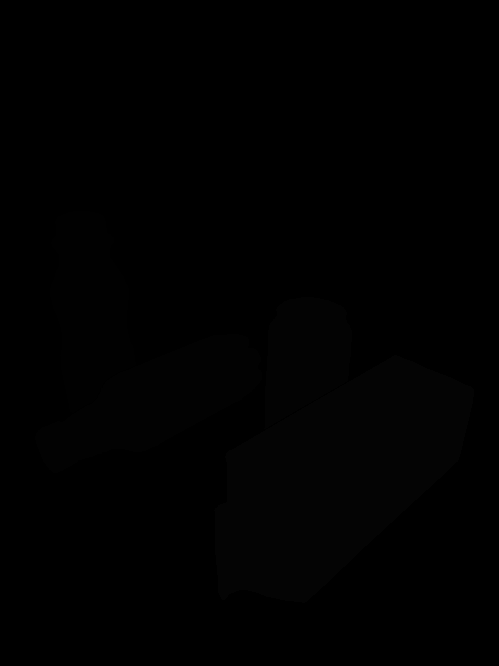can: (261, 293, 354, 430)
carton: (209, 352, 477, 609)
milk_bottle: (47, 209, 139, 418)
water_bottle: (29, 331, 265, 476)
